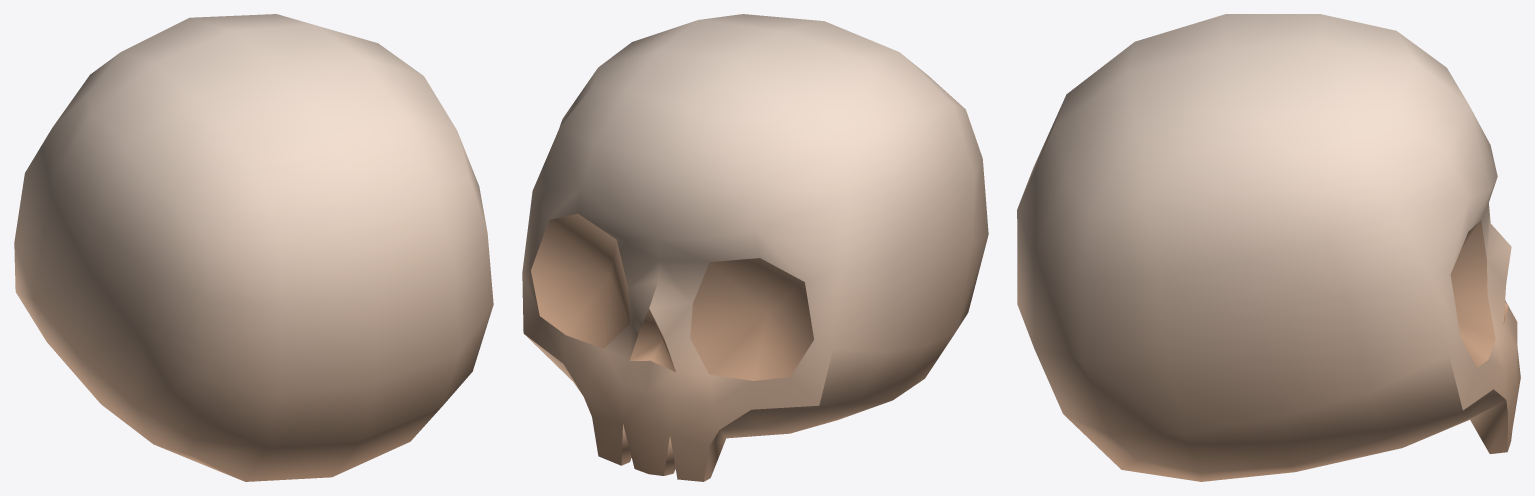
Rendered from SkullHuman.fbx.
The picture shows the model from 3 angles, left to right: view 1: azimuth 30°, elevation 25°; view 2: azimuth 150°, elevation 25°; view 3: azimuth 270°, elevation 25°; orthographic projection. The views are drawn at different scales.
Visible parts, largest first — view 1: SkullHuman; view 2: SkullHuman; view 3: SkullHuman.
Part boxes in pixels (box(x1,y1,x2,y2)): SkullHuman: box(14, 14, 493, 481); SkullHuman: box(522, 14, 988, 481); SkullHuman: box(1017, 14, 1520, 481).
Bounding box in the file's own units: 19.49 × 19.27 × 22.13.
